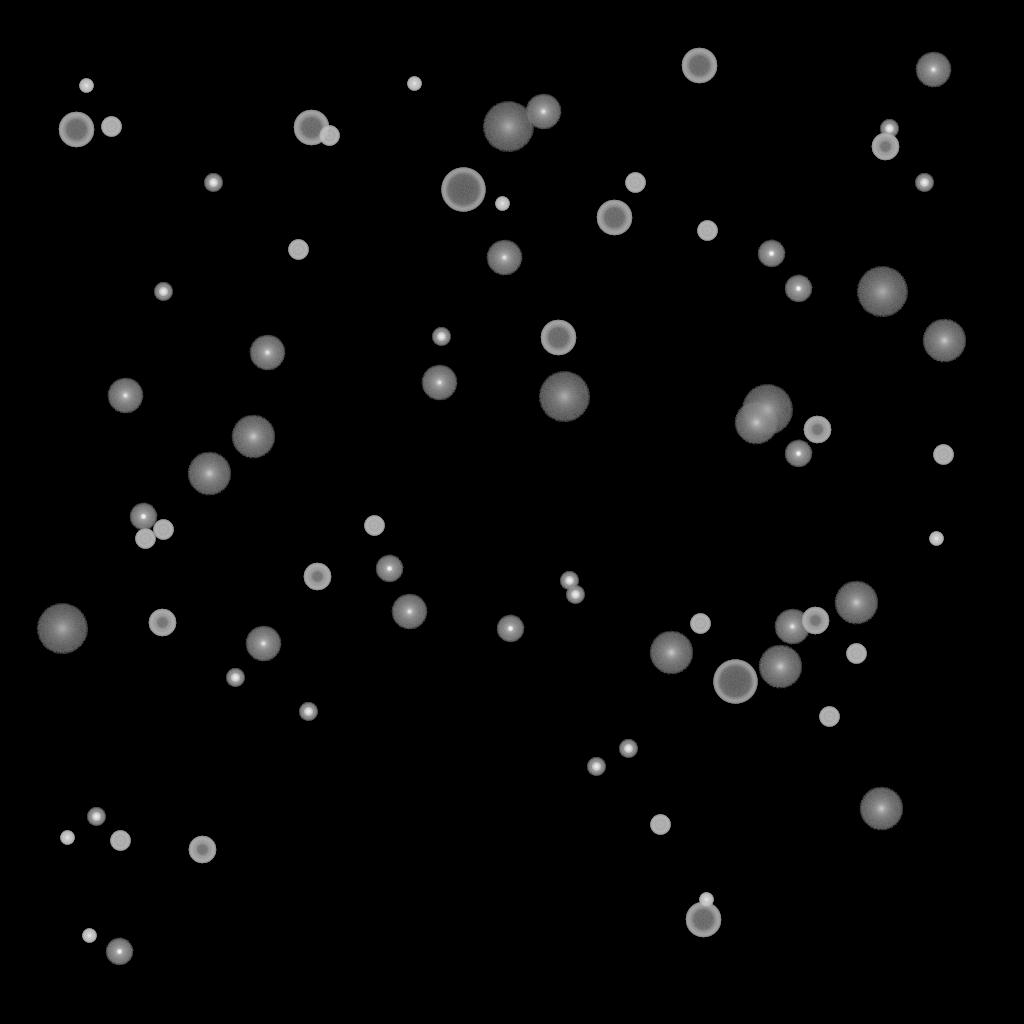depth:-10: (375, 555, 403, 583), (105, 938, 133, 966), (129, 503, 157, 531), (784, 275, 812, 303), (757, 240, 785, 268), (784, 440, 812, 468), (496, 615, 524, 643)
depth:-20: (87, 808, 105, 826), (619, 740, 637, 758), (587, 758, 605, 776), (560, 572, 578, 590), (915, 174, 933, 192), (154, 283, 172, 301), (226, 669, 244, 687), (880, 120, 898, 138), (299, 703, 317, 721), (204, 174, 222, 192), (432, 328, 450, 346), (566, 586, 584, 604)
depth:-30: (79, 79, 93, 93), (495, 197, 509, 211), (699, 893, 713, 907), (82, 929, 96, 943), (60, 831, 74, 845), (929, 532, 943, 546), (407, 77, 421, 91)
depth:-40: (364, 516, 384, 536), (319, 126, 339, 146), (625, 173, 645, 193), (933, 445, 953, 465), (697, 221, 717, 241), (110, 831, 130, 851), (690, 614, 710, 634), (153, 520, 173, 540), (101, 117, 121, 137), (650, 815, 670, 835), (846, 644, 866, 664), (135, 529, 155, 549), (819, 707, 839, 727), (288, 240, 308, 260)
depth:-50: (803, 416, 831, 444), (801, 607, 829, 635), (303, 563, 331, 591), (871, 133, 899, 161), (148, 609, 176, 637), (188, 836, 216, 864)
depth:-60: (540, 320, 576, 356), (685, 902, 721, 938), (596, 200, 632, 236), (681, 48, 717, 84), (58, 112, 94, 148), (293, 110, 329, 146)
depth:-70: (713, 660, 757, 704), (441, 168, 485, 212)
depth:0: (774, 609, 810, 645), (107, 378, 143, 414), (525, 94, 561, 130), (391, 594, 427, 630), (421, 365, 457, 401), (915, 52, 951, 88), (245, 626, 281, 662), (249, 335, 285, 371), (486, 240, 522, 276)
depth:10: (922, 319, 966, 363), (758, 645, 802, 689), (649, 631, 693, 675), (859, 787, 903, 831), (834, 581, 878, 625), (231, 415, 275, 459), (734, 401, 778, 445), (187, 452, 231, 496)
depth:20: (741, 385, 793, 435), (856, 267, 908, 317), (482, 102, 534, 152), (36, 604, 88, 654), (538, 372, 590, 422)
